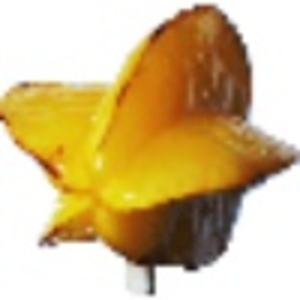carambola: (1, 2, 300, 294)
